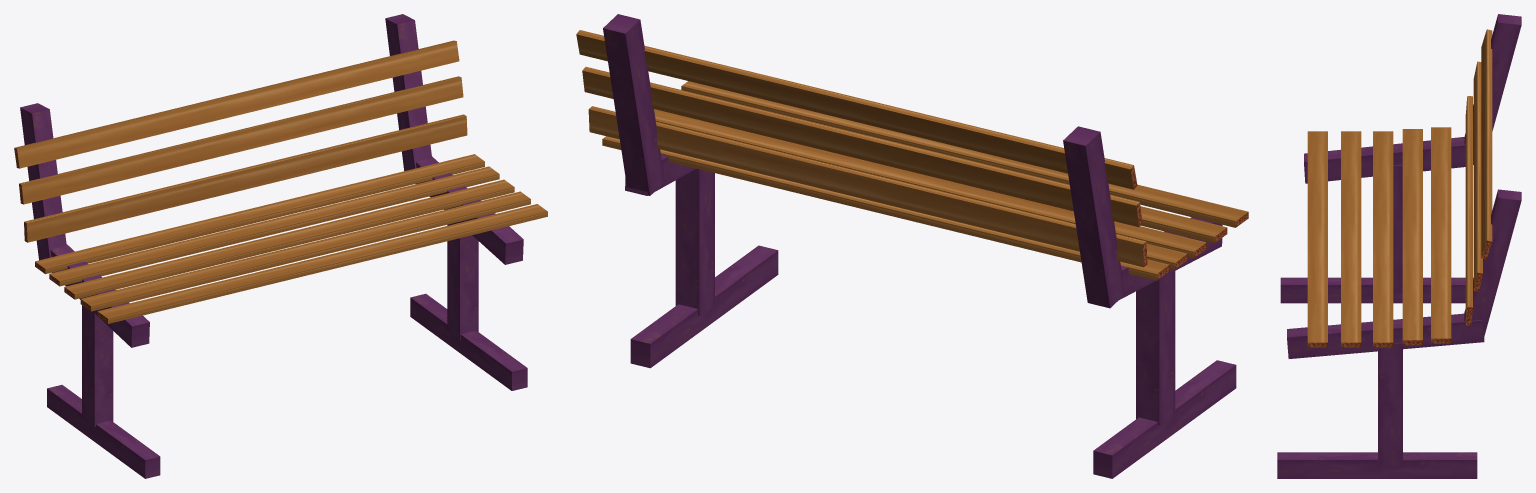
File: bench1.FBX
3 renders of one model, left to right at view 1: azimuth 30°, elevation 25°; view 2: azimuth 150°, elevation 25°; view 3: azimuth 270°, elevation 25°, orthographic. The views are drawn at different scales.
Visible parts, largest first — view 1: Box012; view 2: Box012; view 3: Box012.
Boxes of the visible parts, x1,y1,x2,y2 form: Box012: [14, 14, 547, 478]; Box012: [576, 14, 1248, 478]; Box012: [1277, 14, 1521, 478].
Bounding box in the file's own units: 50.62 × 31.36 × 24.73.
